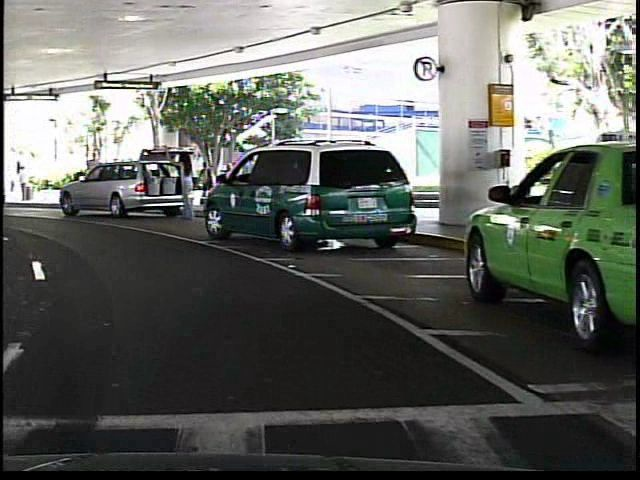person: (183, 155, 212, 213), (174, 146, 194, 226), (78, 149, 102, 201)
